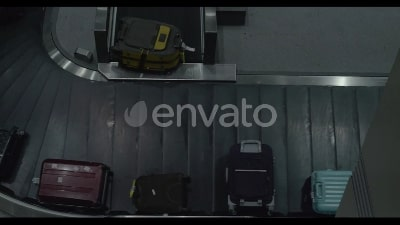baggage: (110, 19, 194, 74), (32, 161, 116, 214), (222, 138, 278, 216), (129, 172, 194, 217), (303, 167, 354, 216)
